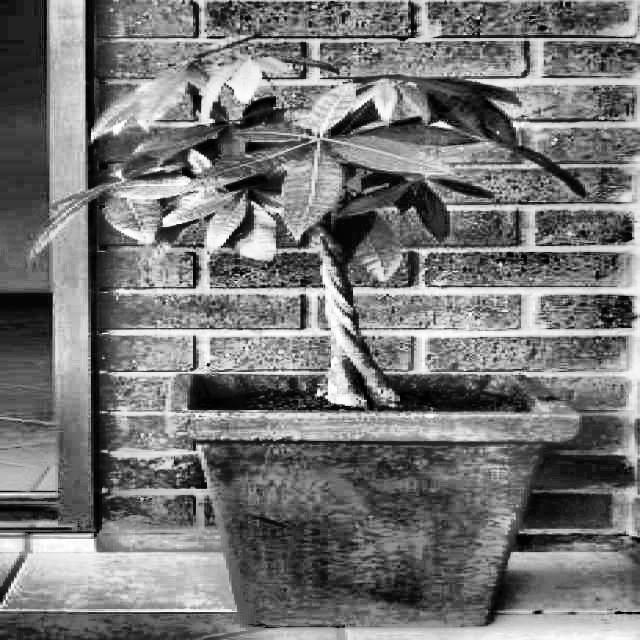plants: (36, 29, 586, 406)
